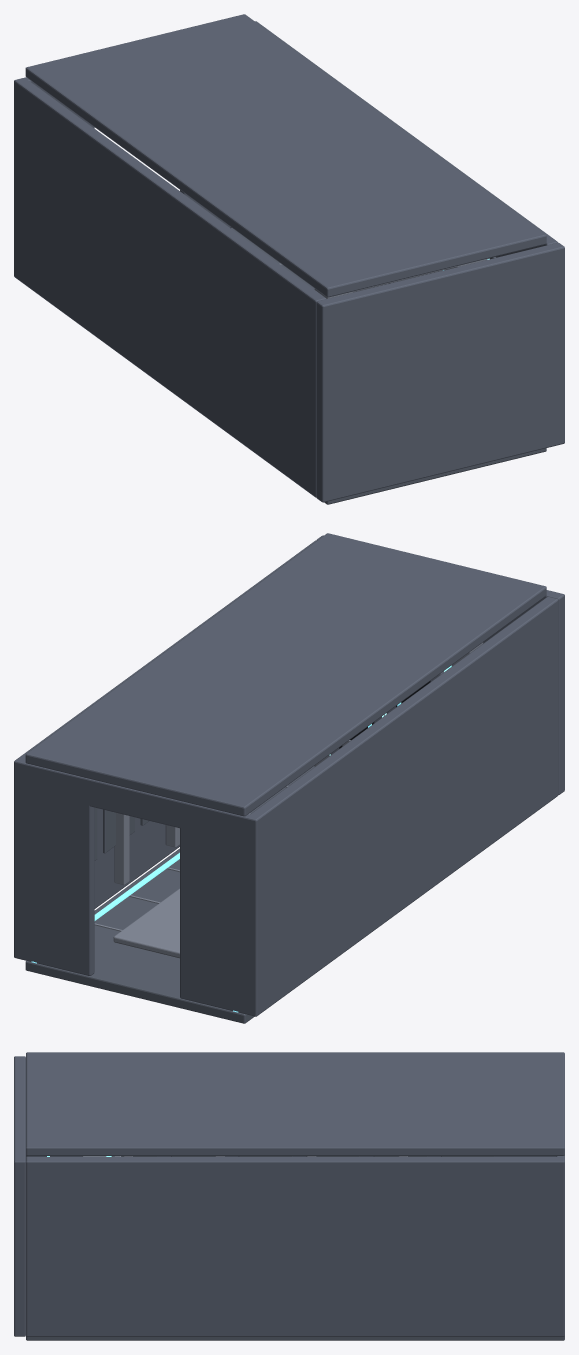
Rendered from Rajat_Corridor_Door_V2.glb.
The picture shows the model from 3 angles, top to bottom: view 1: azimuth 30°, elevation 25°; view 2: azimuth 150°, elevation 25°; view 3: azimuth 270°, elevation 25°; orthographic projection. The views are drawn at different scales.
Visible parts, largest first — view 1: Ceiling_Main, Wall_Left, Wall_Rear, Floor_Main, Wall_Right; view 2: Ceiling_Main, Wall_Left, FrontFrame_Right, FrontFrame_Left, Floor_Main, Wall_Right, FrontFrame_Top, Avatar_Platform, Wall_Rear, SideRib_R_2_0, WallPanel_R_1.95, FloorLight_R; view 3: Wall_Right, Ceiling_Main, Wall_Rear, Floor_Main.
Part boxes in pixels (box(x1,y1,x2,y2)): Ceiling_Main: box(25, 14, 546, 297); Wall_Left: box(14, 78, 326, 497); Wall_Rear: box(316, 242, 564, 502); Floor_Main: box(231, 228, 546, 504); Wall_Right: box(255, 21, 557, 257); Ceiling_Main: box(25, 533, 546, 816); Wall_Left: box(246, 597, 558, 1016); FrontFrame_Right: box(23, 762, 94, 975); FrontFrame_Left: box(180, 801, 249, 1014); Floor_Main: box(25, 766, 314, 1023); Wall_Right: box(14, 540, 316, 959); FrontFrame_Top: box(23, 763, 246, 843); Avatar_Platform: box(113, 888, 179, 958); Wall_Rear: box(317, 535, 564, 795); SideRib_R_2_0: box(114, 812, 129, 884); WallPanel_R_1.95: box(103, 809, 134, 853); FloorLight_R: box(31, 852, 179, 963); Wall_Right: box(26, 1157, 564, 1336); Ceiling_Main: box(26, 1052, 564, 1155); Wall_Rear: box(14, 1056, 25, 1336); Floor_Main: box(26, 1336, 564, 1340).
Bounding box in the file's own units: 4.64 × 3.96 × 10.22.
